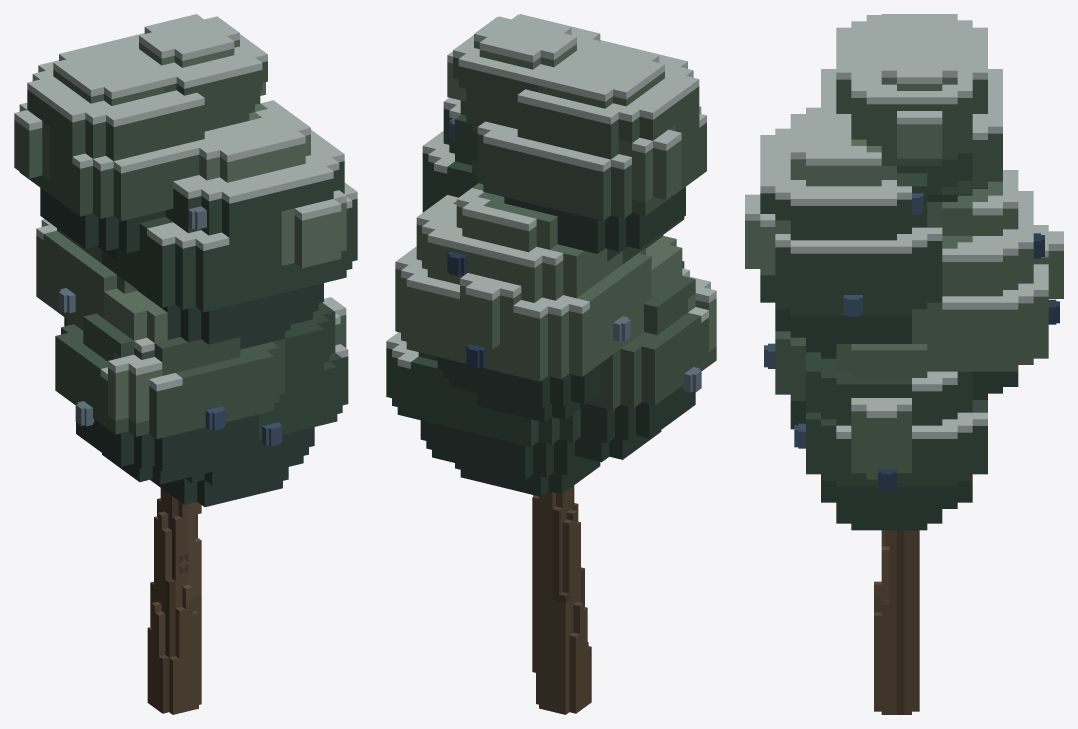
Rendered from juniper_mature_winter.glb.
The picture shows the model from 3 angles, left to right: view 1: azimuth 30°, elevation 25°; view 2: azimuth 150°, elevation 25°; view 3: azimuth 270°, elevation 25°; orthographic projection. The views are drawn at different scales.
Parts seen in each view (by area): view 1: VoxelVisual; view 2: VoxelVisual; view 3: VoxelVisual.
Part boxes in pixels (left/top/right/bottom): VoxelVisual: left=14, top=14, right=357, bottom=714; VoxelVisual: left=386, top=14, right=716, bottom=714; VoxelVisual: left=745, top=14, right=1063, bottom=714.
Size of what is drawn, in the model's own units: 5.69 by 12 by 5.25.
